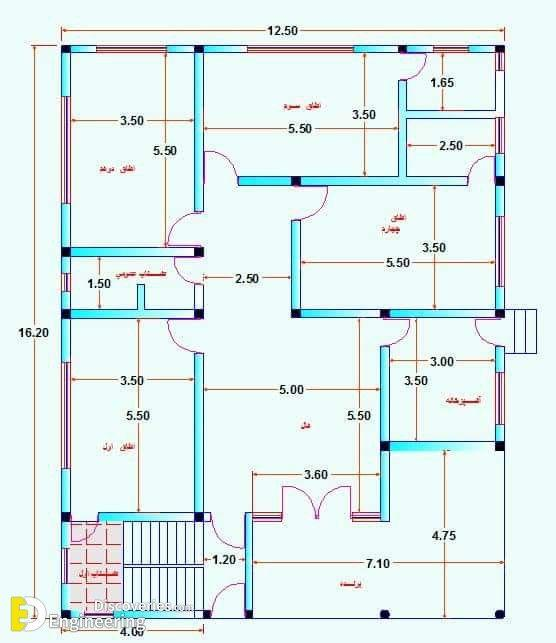Blueprint: (54, 37, 510, 627)
wall: (298, 174, 469, 188), (192, 50, 206, 214), (192, 350, 206, 514), (69, 245, 197, 260), (69, 307, 197, 321), (387, 440, 498, 454), (378, 344, 393, 444), (396, 108, 507, 121), (97, 510, 197, 524), (242, 510, 255, 614), (396, 77, 408, 188), (387, 307, 498, 319), (289, 217, 303, 311), (111, 607, 205, 621), (298, 307, 382, 320), (378, 449, 391, 524), (236, 174, 293, 188), (493, 68, 507, 121), (58, 466, 73, 515), (59, 201, 73, 250), (59, 50, 73, 98), (59, 316, 72, 364), (350, 43, 400, 54), (201, 43, 250, 54), (134, 281, 147, 320), (494, 184, 507, 220), (493, 344, 507, 377), (162, 43, 198, 55), (59, 581, 72, 612), (493, 284, 506, 314), (405, 43, 436, 55), (69, 43, 99, 55), (465, 43, 497, 54), (493, 151, 506, 178), (60, 520, 72, 549), (59, 254, 73, 277), (59, 289, 72, 312), (493, 422, 506, 444)
